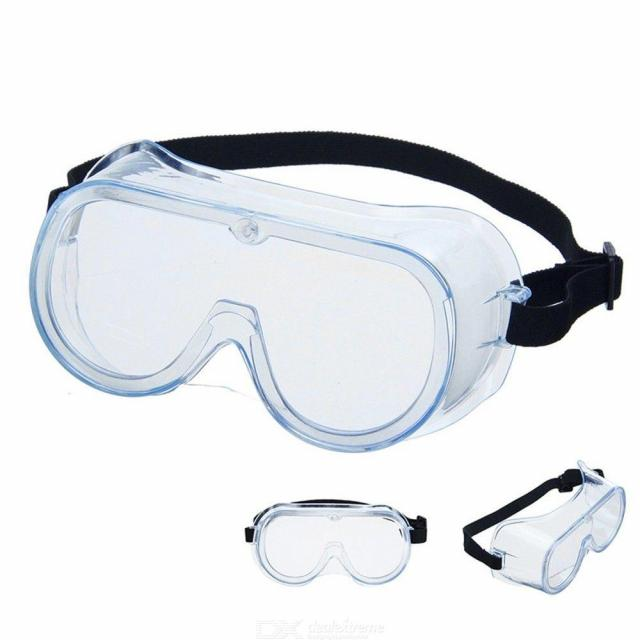Protective Glasses: (21, 100, 637, 458), (227, 474, 445, 618), (449, 462, 640, 602)
